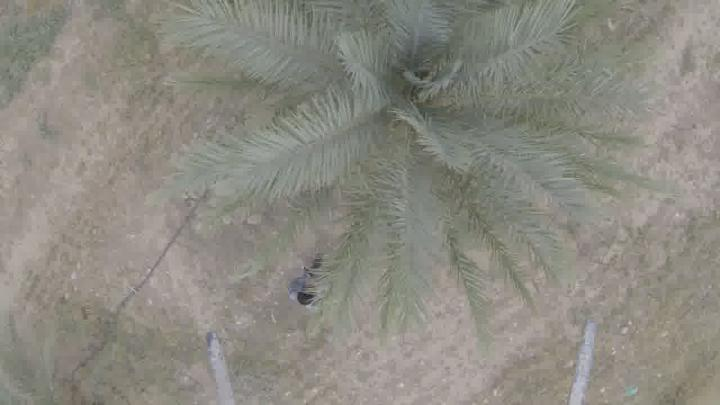Date-Palm-Crown: (291, 0, 559, 222)
